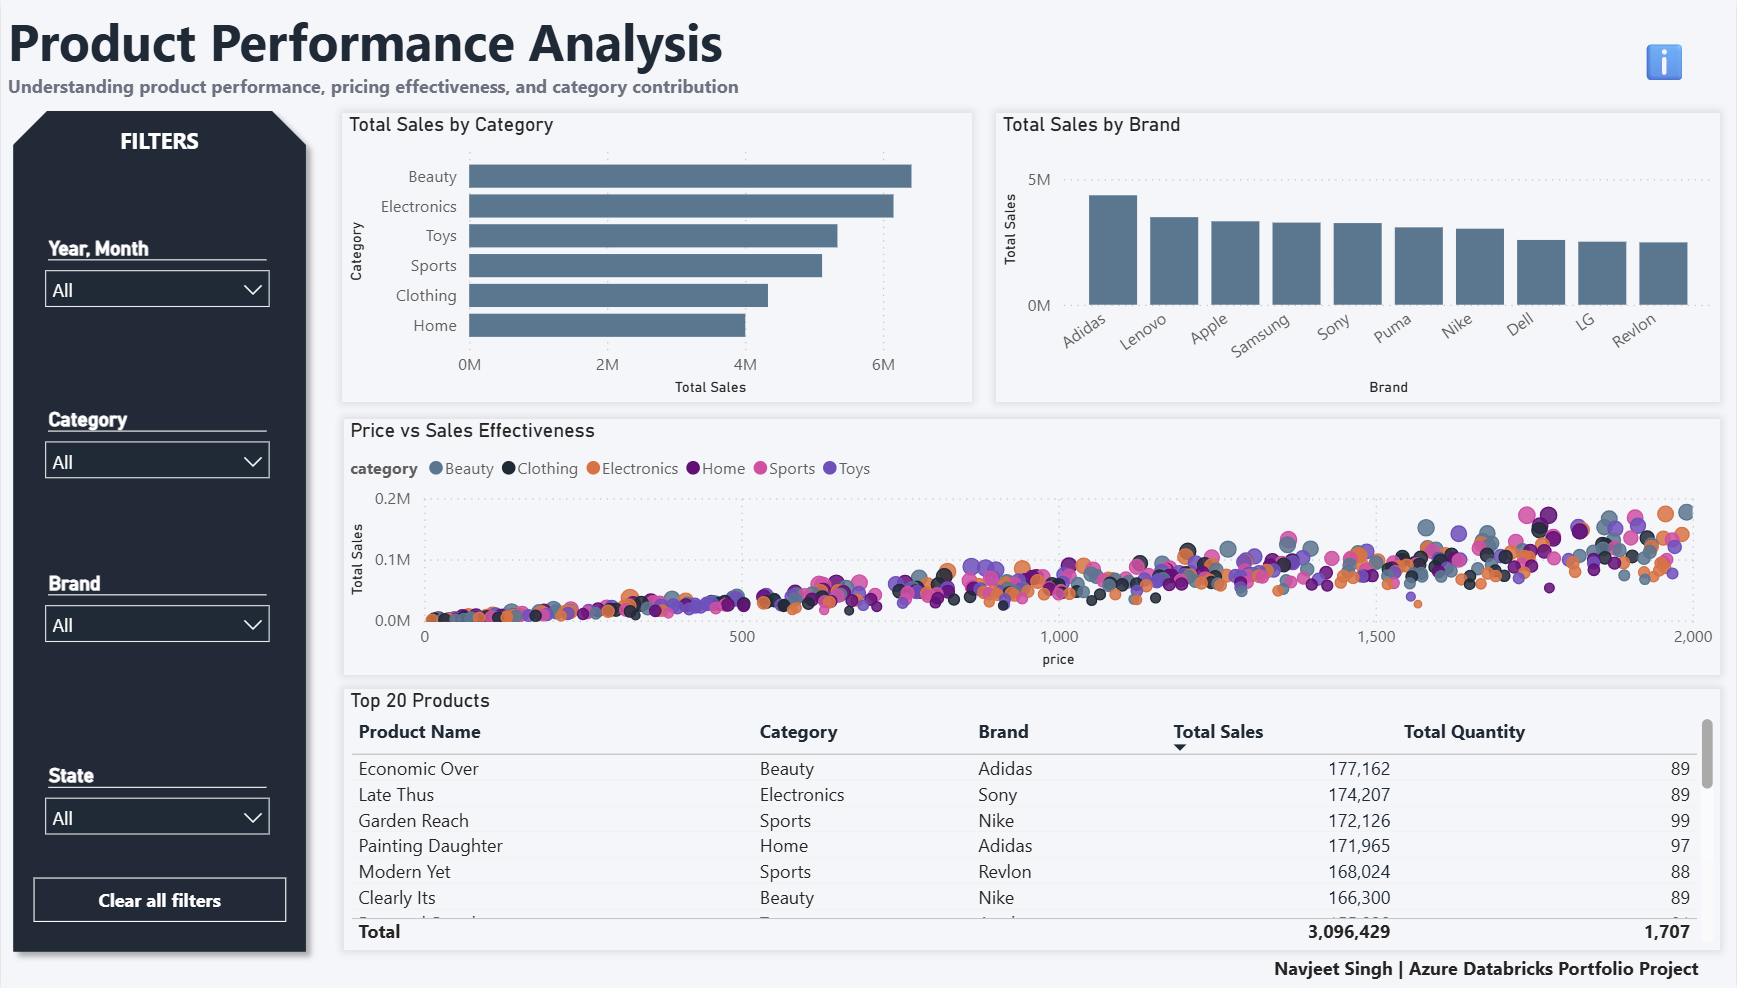

What the dashboard file says about the page in this screenshot:
{"tool":"powerbi","page":{"name":"Product Performance Analysis","canvas":[1280,730],"ordinal":1},"visuals":[{"type":"shape","box":[0,72.5,233.8,638],"z":0},{"type":"textbox","box":[0,0,1280,82.5],"z":1000},{"type":"scatterChart","title":"Price vs Sales Effectiveness","fields":{"X":["dimproducts.price"],"Y":["KPIs.Total Sales"],"Size":["KPIs.Total Quantity"],"Series":["dimproducts.category"]},"box":[252.5,308.8,1015,188.8],"z":3000},{"type":"slicer","fields":{"Values":["dimcalendar.Year","dimcalendar.MonthName"]},"box":[22.5,169.5,186.2,80],"z":4000},{"type":"slicer","fields":{"Values":["dimproducts.category"]},"box":[22.5,295.8,186.2,80],"z":5000},{"type":"slicer","fields":{"Values":["dimproducts.brand"]},"box":[22.5,417,186.2,80],"z":6000},{"type":"slicer","fields":{"Values":["dimcustomers.state"]},"box":[22.5,558.3,186.2,80],"z":7000},{"type":"clusteredBarChart","title":"Total Sales by Category","fields":{"Category":["dimproducts.category"],"Y":["KPIs.Total Sales"]},"box":[252,82.5,463.8,213.8],"z":8000},{"type":"clusteredColumnChart","fields":{"Category":["dimproducts.brand"],"Y":["KPIs.Total Sales"]},"box":[733.8,82.5,533.8,213.8],"z":9000},{"type":"textbox","box":[933.8,700,346.2,30],"z":10000},{"type":"tableEx","title":"Top 20 Products","fields":{"Values":["dimproducts.product_name","dimproducts.category","dimproducts.brand","KPIs.Total Sales","KPIs.Total Quantity"]},"box":[252.5,507.5,1015,192.5],"z":10001},{"type":"cardVisual","fields":{"Data":["KPIs.Page 3 Questions"]},"box":[1196.3,17.1,58.7,50.2],"z":10002},{"type":"actionButton","box":[23.8,647.5,186.2,32.5],"z":10003}]}

Visuals, with their boxes in screenshot pixels (x1, y1, x2, y2), scaled from the page's 1280x730 canvas onto the 1737x988 screenshot:
shape: {"left": 0, "top": 98, "right": 317, "bottom": 962}
textbox: {"left": 0, "top": 0, "right": 1736, "bottom": 112}
"Price vs Sales Effectiveness" scatterChart: {"left": 343, "top": 418, "right": 1720, "bottom": 673}
slicer - dimcalendar.Year x dimcalendar.MonthName: {"left": 31, "top": 229, "right": 283, "bottom": 338}
slicer - dimproducts.category: {"left": 31, "top": 400, "right": 283, "bottom": 509}
slicer - dimproducts.brand: {"left": 31, "top": 564, "right": 283, "bottom": 673}
slicer - dimcustomers.state: {"left": 31, "top": 756, "right": 283, "bottom": 864}
"Total Sales by Category" clusteredBarChart: {"left": 342, "top": 112, "right": 971, "bottom": 401}
clusteredColumnChart - dimproducts.brand x KPIs.Total Sales: {"left": 996, "top": 112, "right": 1720, "bottom": 401}
textbox: {"left": 1267, "top": 947, "right": 1736, "bottom": 987}
"Top 20 Products" tableEx: {"left": 343, "top": 687, "right": 1720, "bottom": 947}
cardVisual - KPIs.Page 3 Questions: {"left": 1623, "top": 23, "right": 1703, "bottom": 91}
actionButton: {"left": 32, "top": 876, "right": 285, "bottom": 920}
